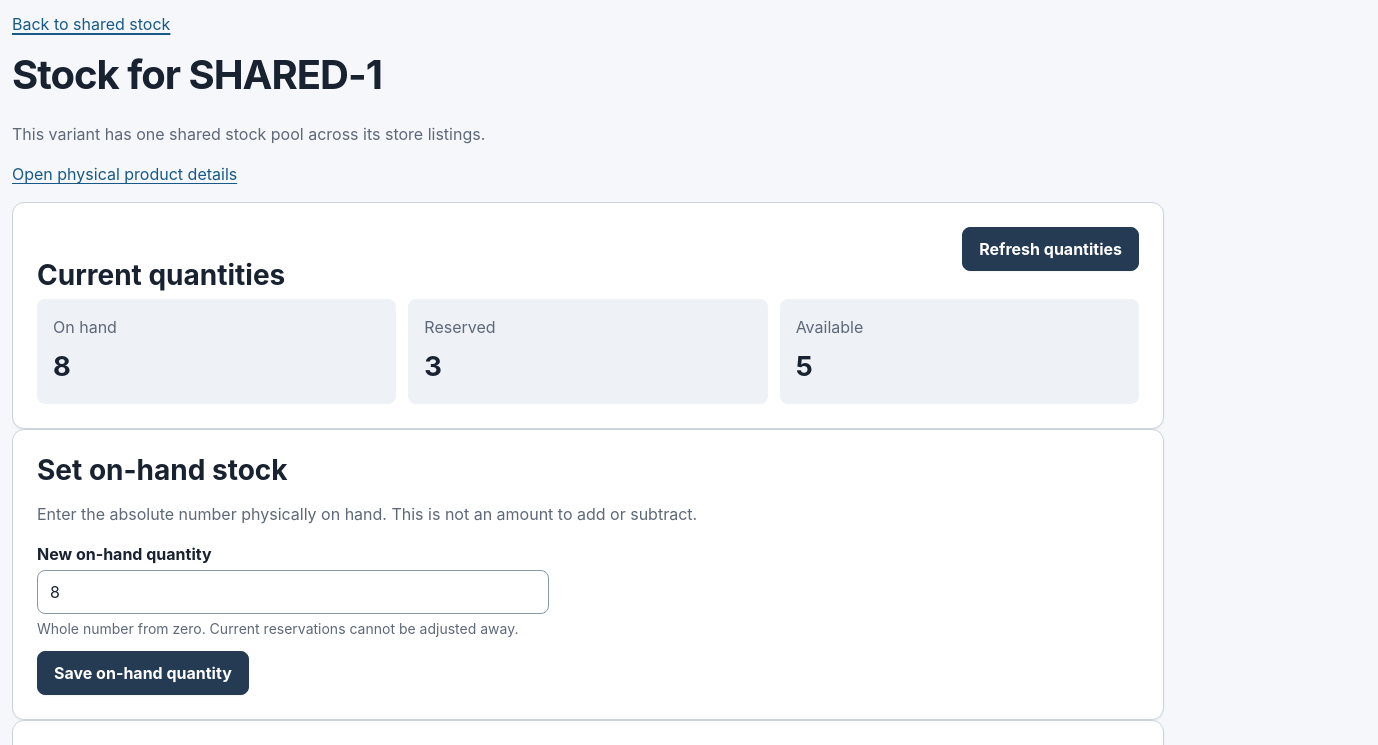
Test: shared stock › rejects fractional adjustments and serializes pending saves
Replace the text in the field labelled "New on-hand quantity" with "2.5": (293, 592) x1=37 y1=570 x2=549 y2=614
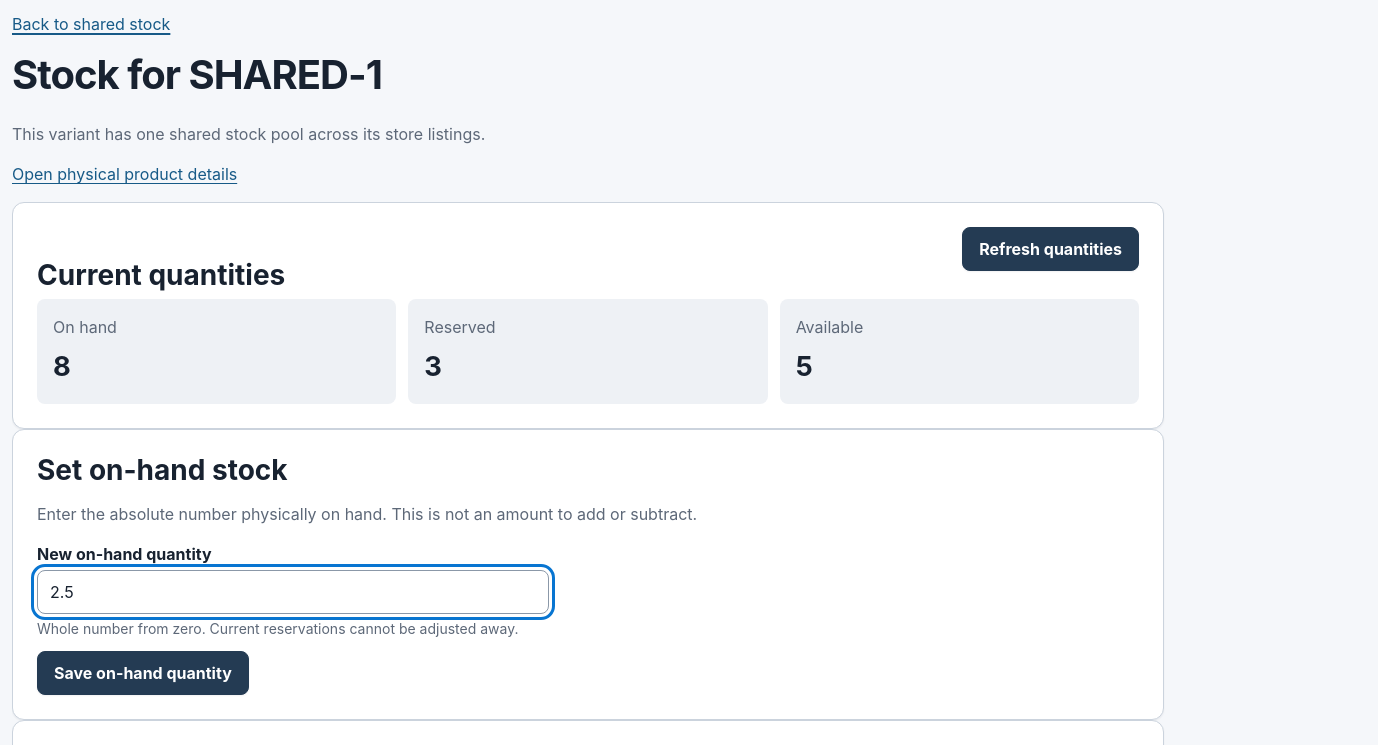
Click the button "Save on-hand quantity": (143, 673) x1=37 y1=651 x2=249 y2=695
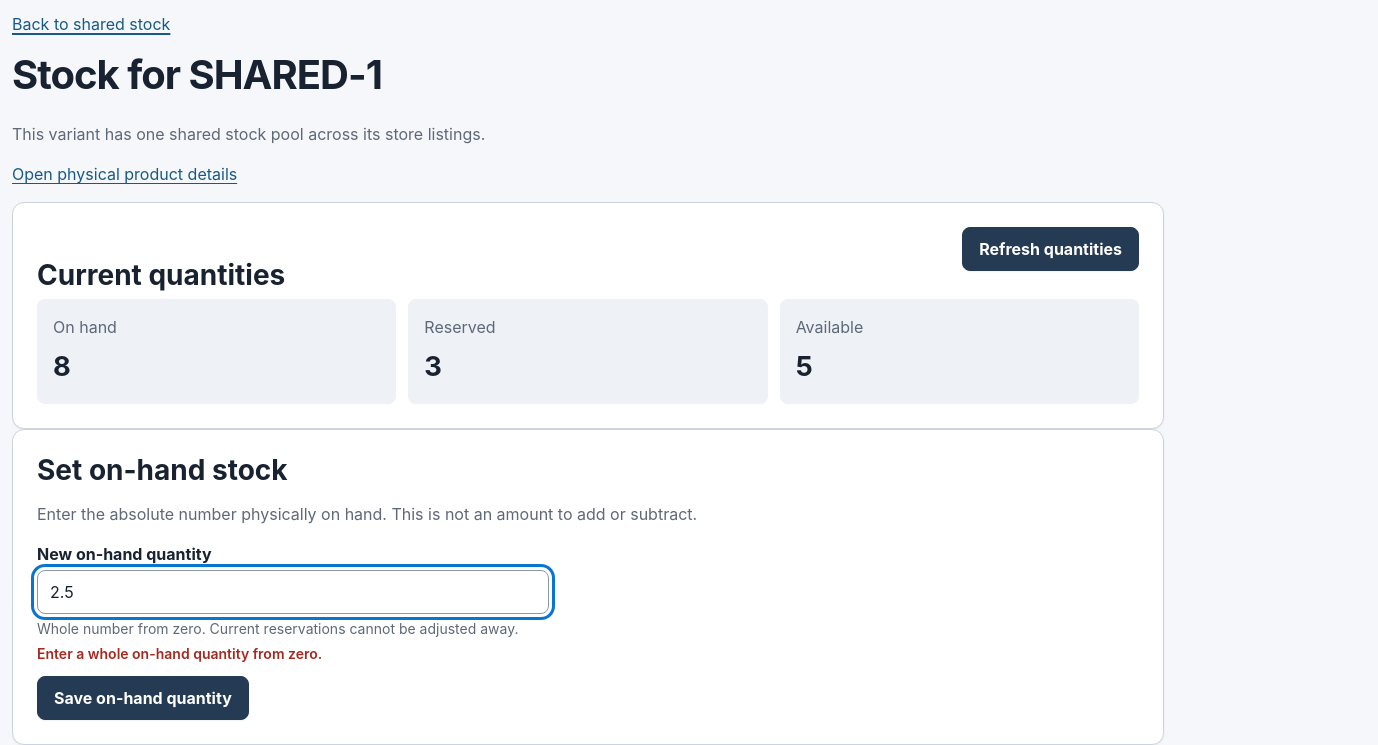
Now the text "Enter a whole on-hand quantity from zero." is shown, box x1=37 y1=645 x2=322 y2=662
Replace the text in the field labelled "New on-hand quantity" with "9": (293, 592) x1=37 y1=570 x2=549 y2=614
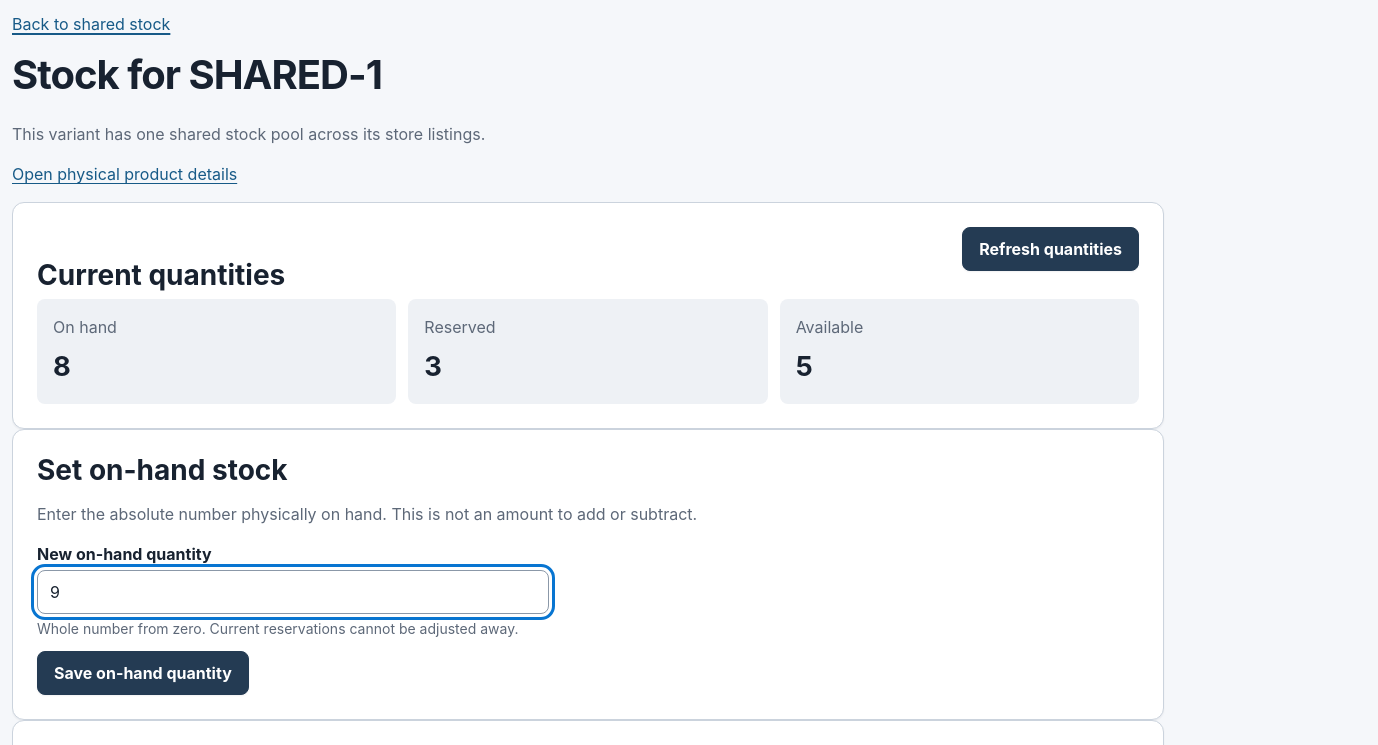
Click the button "Save on-hand quantity": (143, 673) x1=37 y1=651 x2=249 y2=695
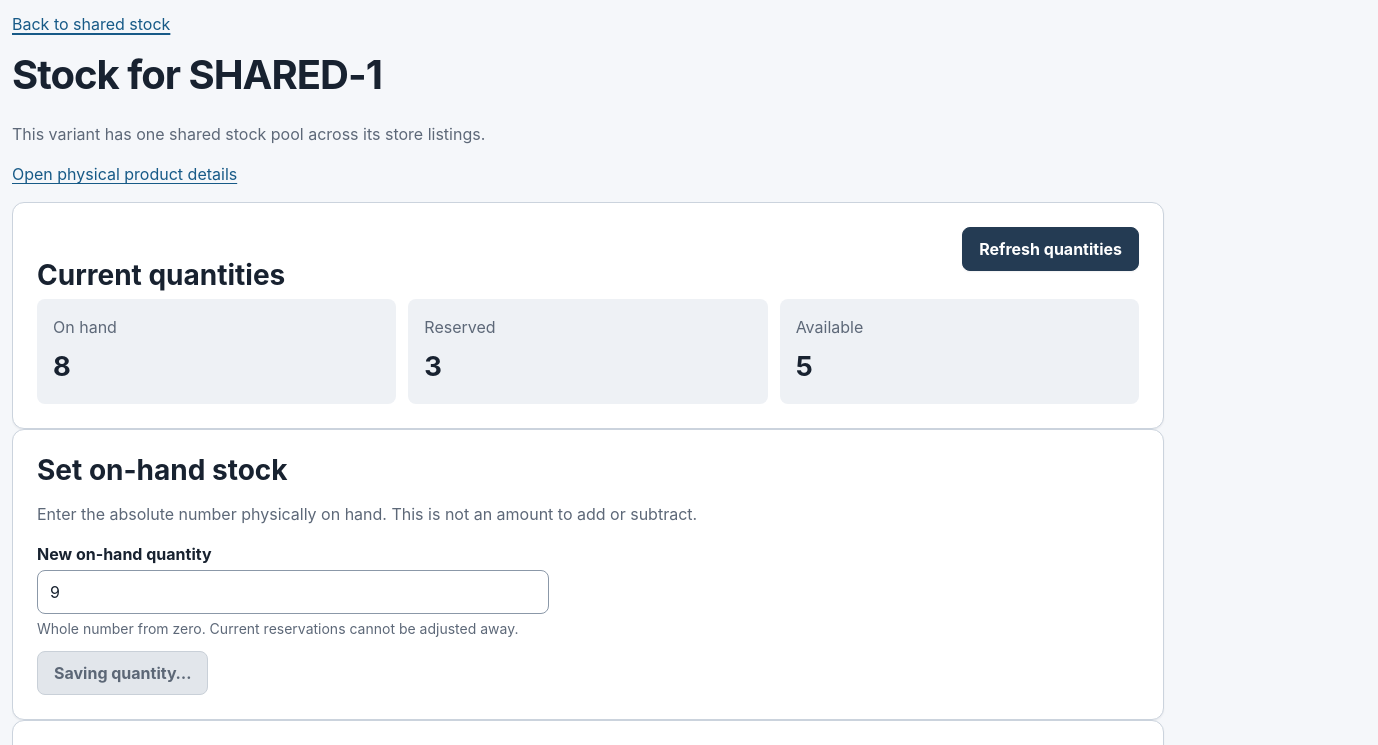
Click the button named "Save on-hand quantity": (123, 673) x1=37 y1=651 x2=208 y2=695
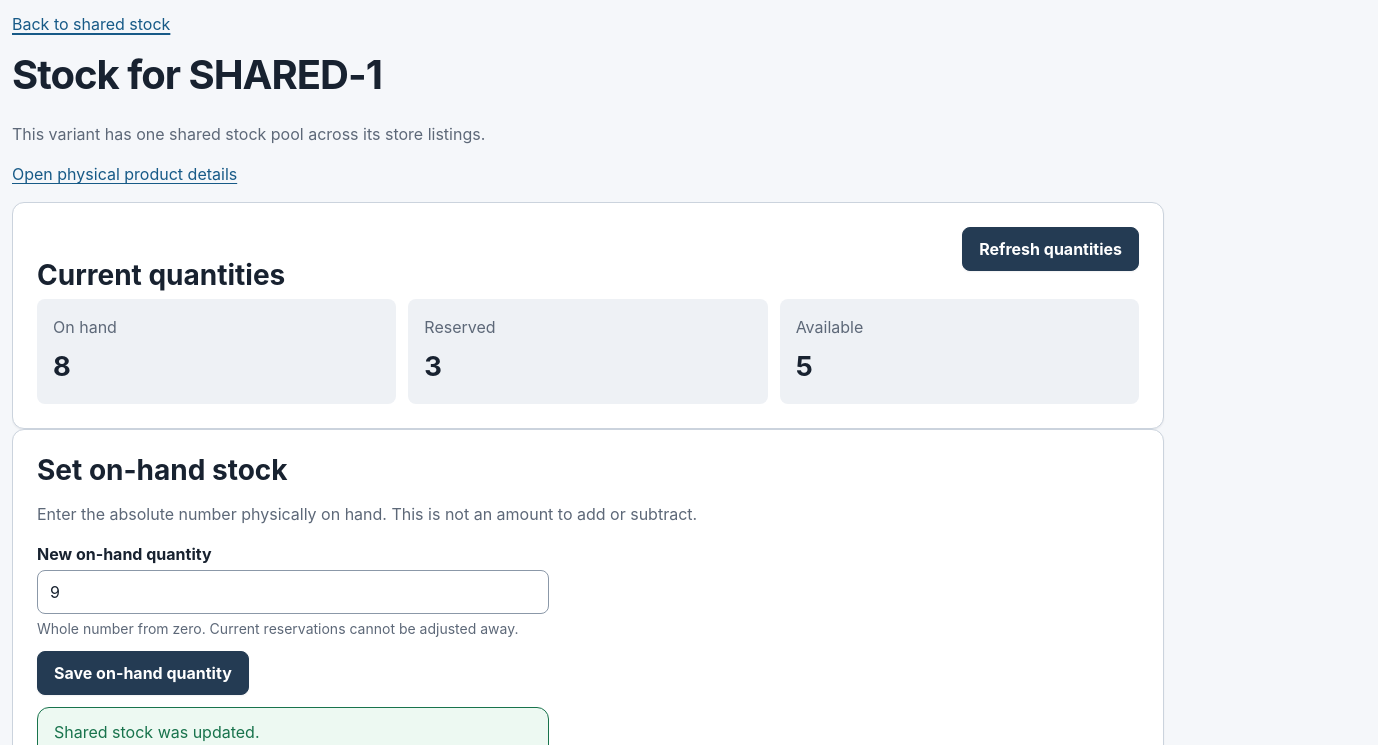
Now the text "Shared stock was updated." is shown, box x1=54 y1=722 x2=260 y2=742
